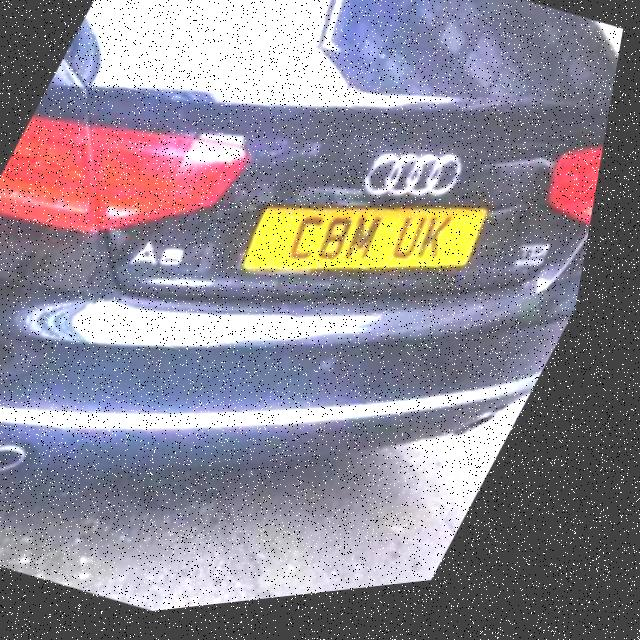license_plate: (231, 143, 520, 360)
